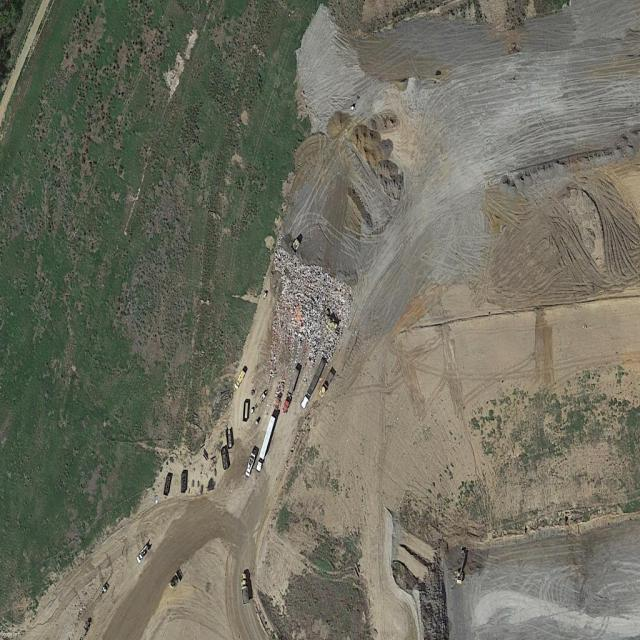dump_site: (255, 242, 357, 370)
